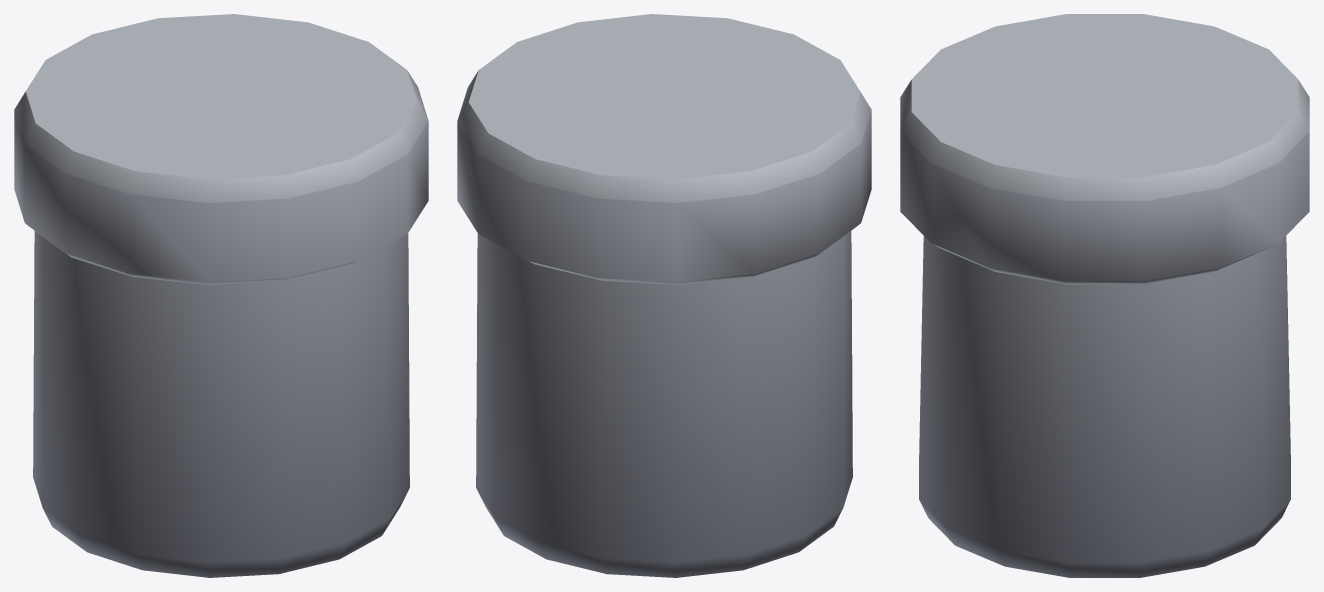
The model's file is tin-a-grey.glb.
3 renders of one model, left to right at view 1: azimuth 30°, elevation 25°; view 2: azimuth 150°, elevation 25°; view 3: azimuth 270°, elevation 25°, orthographic.
Visible parts, largest first — view 1: tin_A_grey; view 2: tin_A_grey; view 3: tin_A_grey.
Boxes of the visible parts, x1=… form: tin_A_grey: x1=14, y1=14, x2=428, y2=577; tin_A_grey: x1=457, y1=14, x2=871, y2=577; tin_A_grey: x1=900, y1=14, x2=1309, y2=577.
Bounding box in the file's own units: 0.4 × 0.4485 × 0.4.
1 material, 1 textured.
